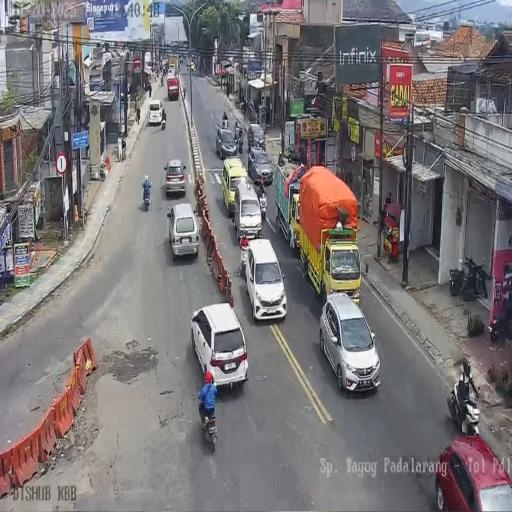3: (290, 164, 358, 306), (144, 51, 152, 74)
car: (319, 291, 381, 390), (434, 432, 512, 509), (190, 302, 249, 390), (242, 238, 288, 321), (168, 203, 199, 261), (234, 182, 263, 241), (248, 146, 274, 187), (164, 158, 186, 199), (215, 125, 237, 159), (247, 122, 266, 151), (148, 99, 164, 126), (167, 76, 179, 100), (120, 86, 129, 102), (167, 65, 176, 78), (191, 62, 195, 71)
truck: (447, 372, 481, 436), (450, 253, 488, 301), (490, 294, 512, 344), (199, 396, 218, 450), (286, 142, 303, 164), (234, 123, 243, 152), (142, 182, 151, 209), (248, 104, 256, 123), (222, 114, 228, 129), (161, 114, 166, 129), (160, 76, 163, 86), (154, 73, 157, 83), (187, 63, 189, 72)
